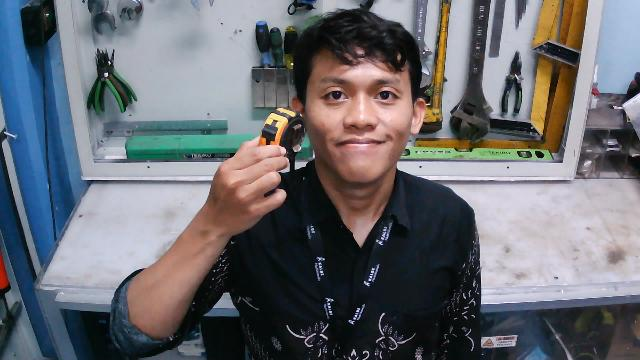meteran: (251, 105, 308, 174)
